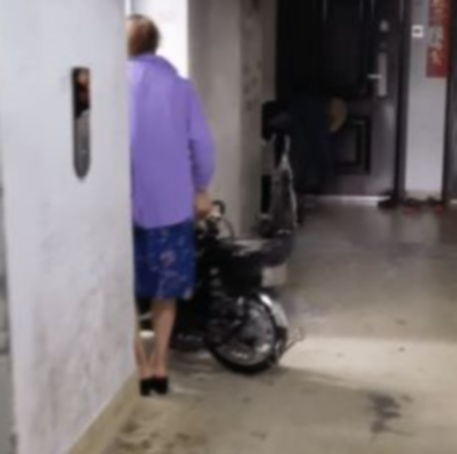ebike: (166, 196, 293, 370)
person: (128, 14, 213, 394)
